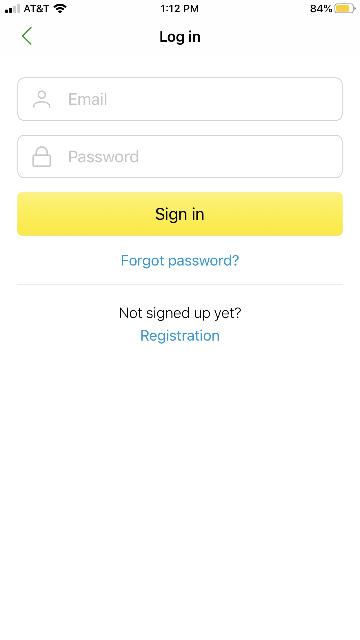EditText: (17, 134, 342, 178), (17, 78, 342, 120)
Icon: (33, 146, 51, 166), (34, 90, 50, 108), (22, 27, 32, 45)
Text: (120, 307, 241, 321), (122, 254, 238, 268), (142, 329, 218, 343), (156, 206, 204, 224), (70, 150, 138, 162), (160, 30, 200, 44), (70, 92, 106, 106)
TextButton: (17, 192, 342, 235)
Toolbar: (0, 14, 360, 56)
UpperTaskBar: (0, 0, 360, 14)
